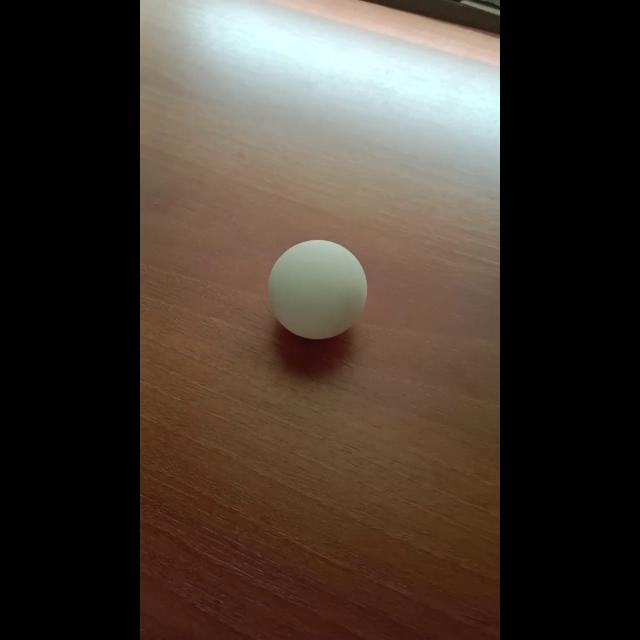white ball: (267, 238, 367, 340)
